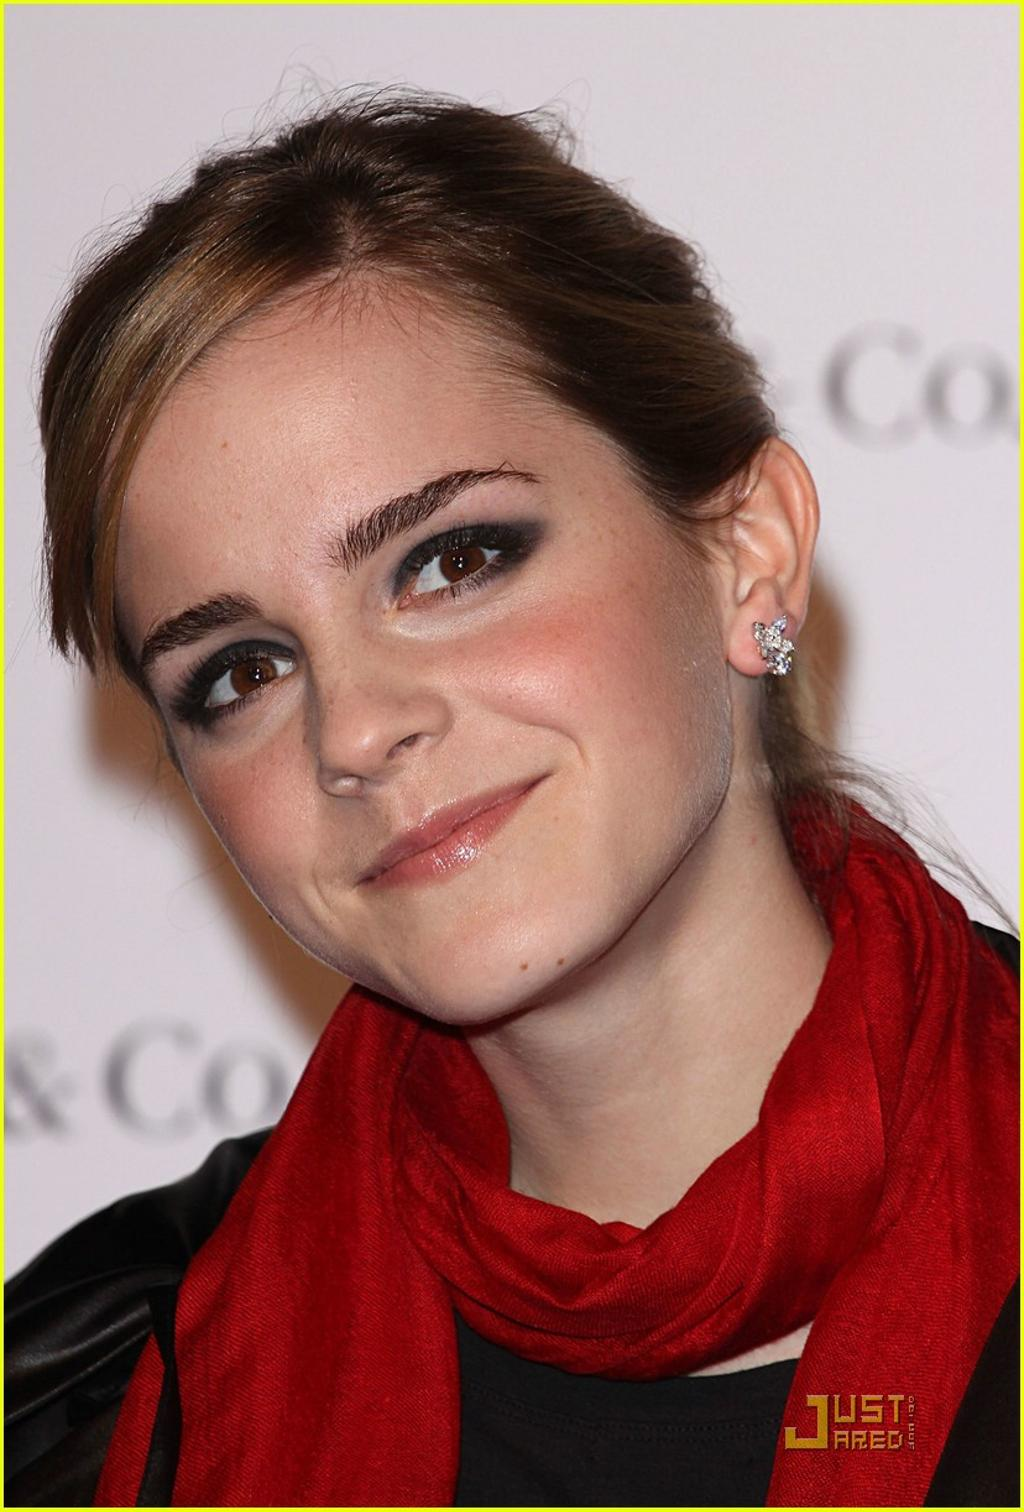face: (91, 274, 740, 1027)
